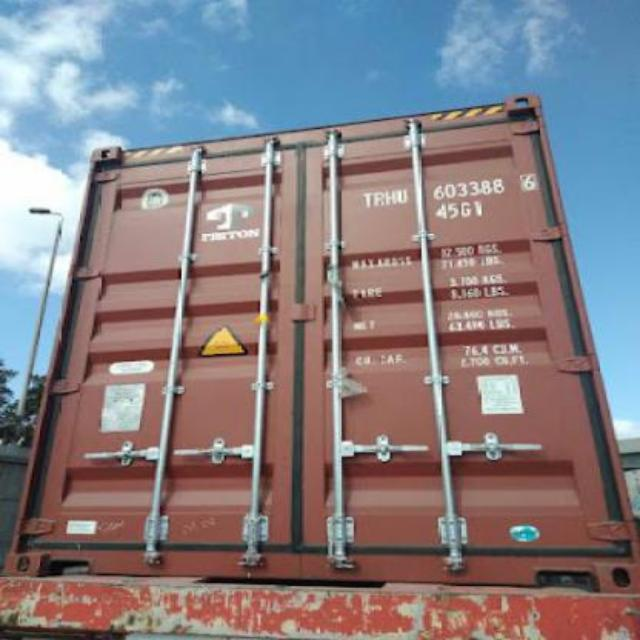0: (444, 178, 456, 200)
3: (454, 174, 468, 202), (466, 177, 478, 200)
6: (518, 172, 538, 192), (428, 180, 444, 204)
8: (490, 172, 506, 202), (480, 175, 492, 201)
H: (384, 187, 394, 210)
R: (372, 187, 384, 211)
T: (361, 187, 374, 210)
U: (394, 184, 408, 208)
